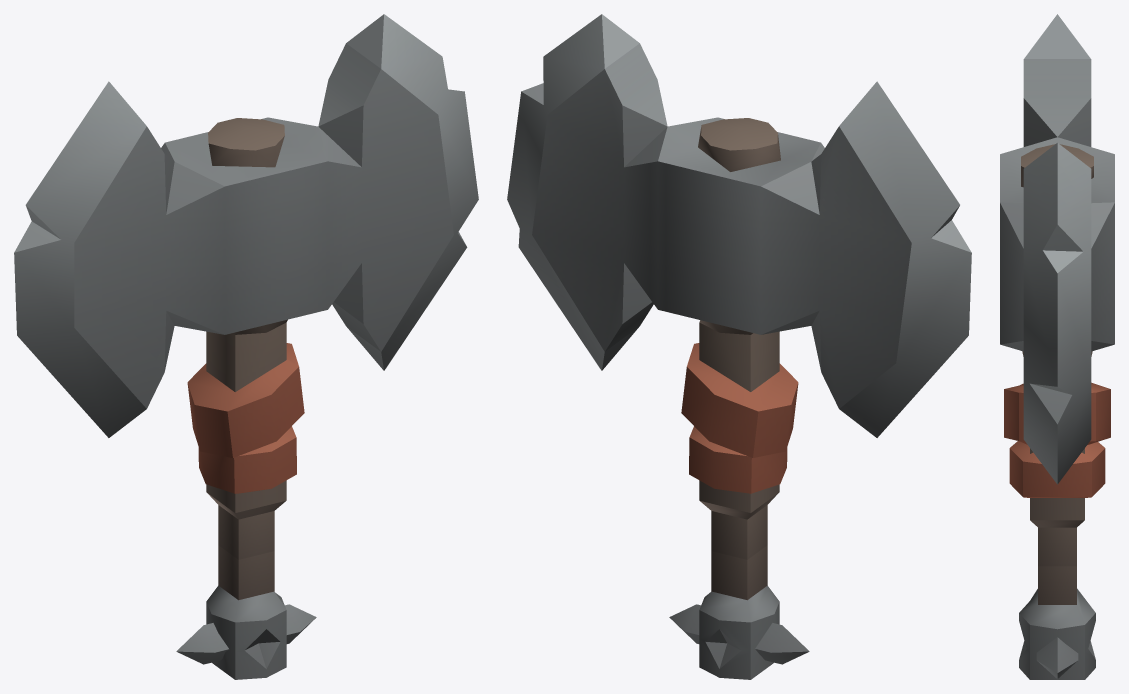
File: prop_axe.glb
3 renders of one model, left to right at view 1: azimuth 30°, elevation 25°; view 2: azimuth 150°, elevation 25°; view 3: azimuth 270°, elevation 25°, orthographic. The views are drawn at different scales.
Visible parts, largest first — view 1: Skeleton_Axe; view 2: Skeleton_Axe; view 3: Skeleton_Axe.
Boxes of the visible parts, <box> form: Skeleton_Axe: <box>14,14,478,679</box>; Skeleton_Axe: <box>507,14,971,679</box>; Skeleton_Axe: <box>1000,14,1114,679</box>.
Bounding box in the file's own units: 0.9728 × 1.25 × 0.2175.
Materials: 1 (1 with a texture image).
